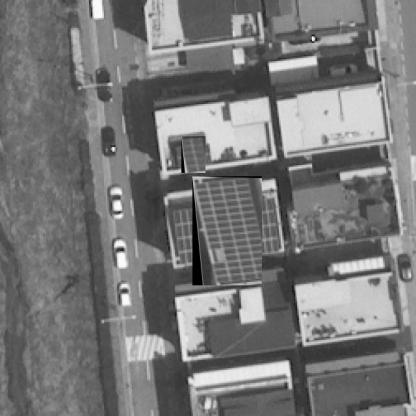solar-pv-panel: (193, 178, 262, 285), (182, 137, 205, 173)
